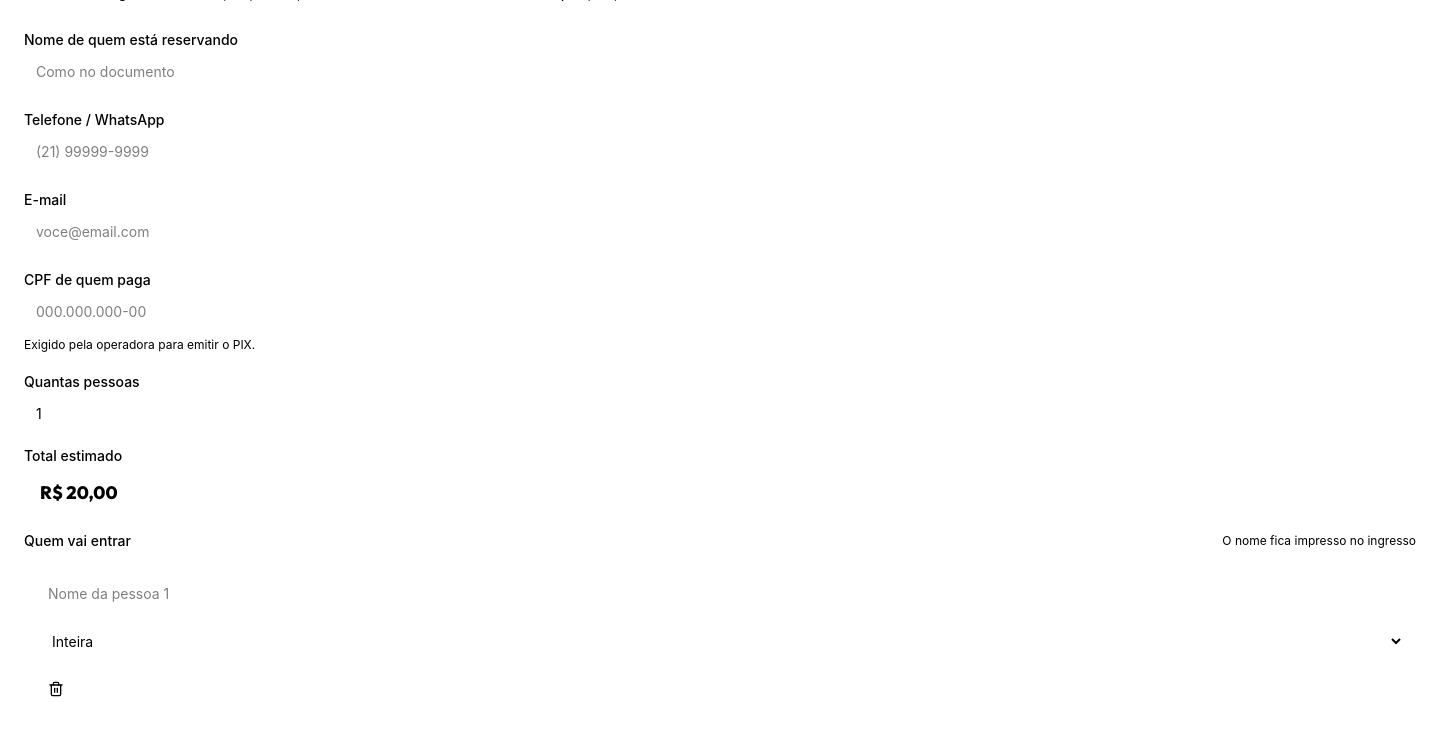
EventTicketForm › reserva só de isentos não pede CPF
Select "Isento (colo ou PCD)" in the dropdown named "Tipo de ingresso da pessoa 1" at [720, 641], box [36,621,1404,661]
(page scrolled)
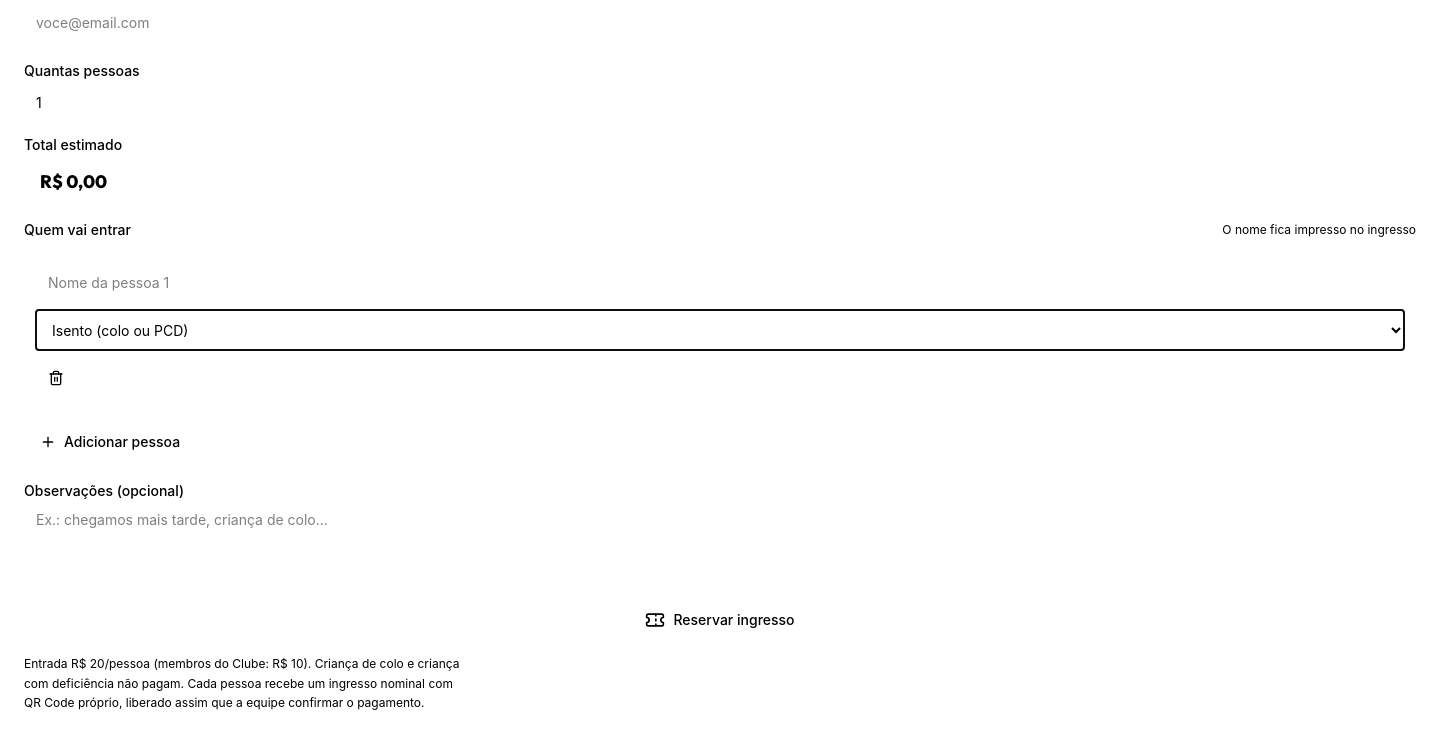
expect the label labelled "CPF de quem paga" is gone: met
expect the button "Reservar ingresso" is shown: met, box [24,598,1416,642]
